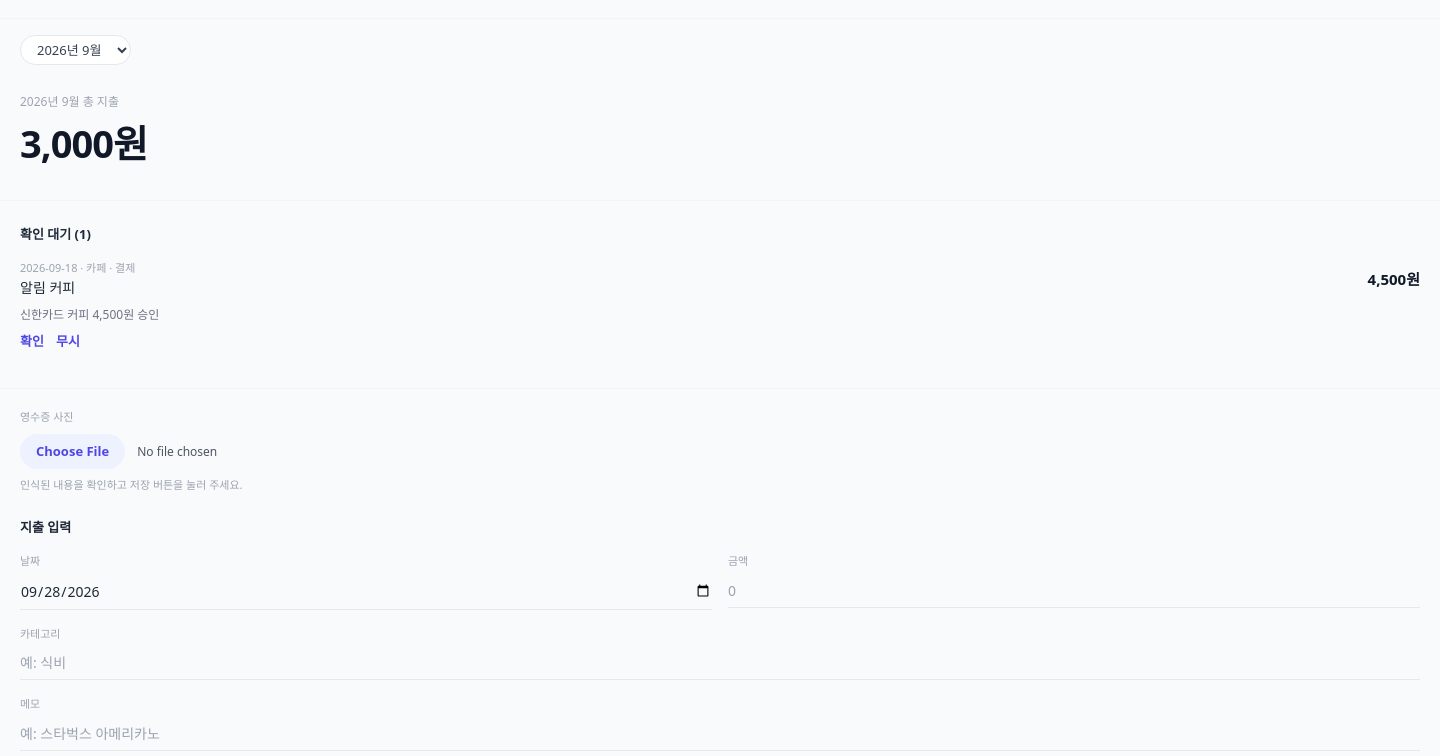
Test case: 대시보드 확인 대기 › 편집 시작 시 확인 대기 모드를 해제합니다
The width and height of the screenshot is (1440, 756).
Click the button "확인". click: click(32, 341)
box: [20,332,44,351]
(page scrolled)
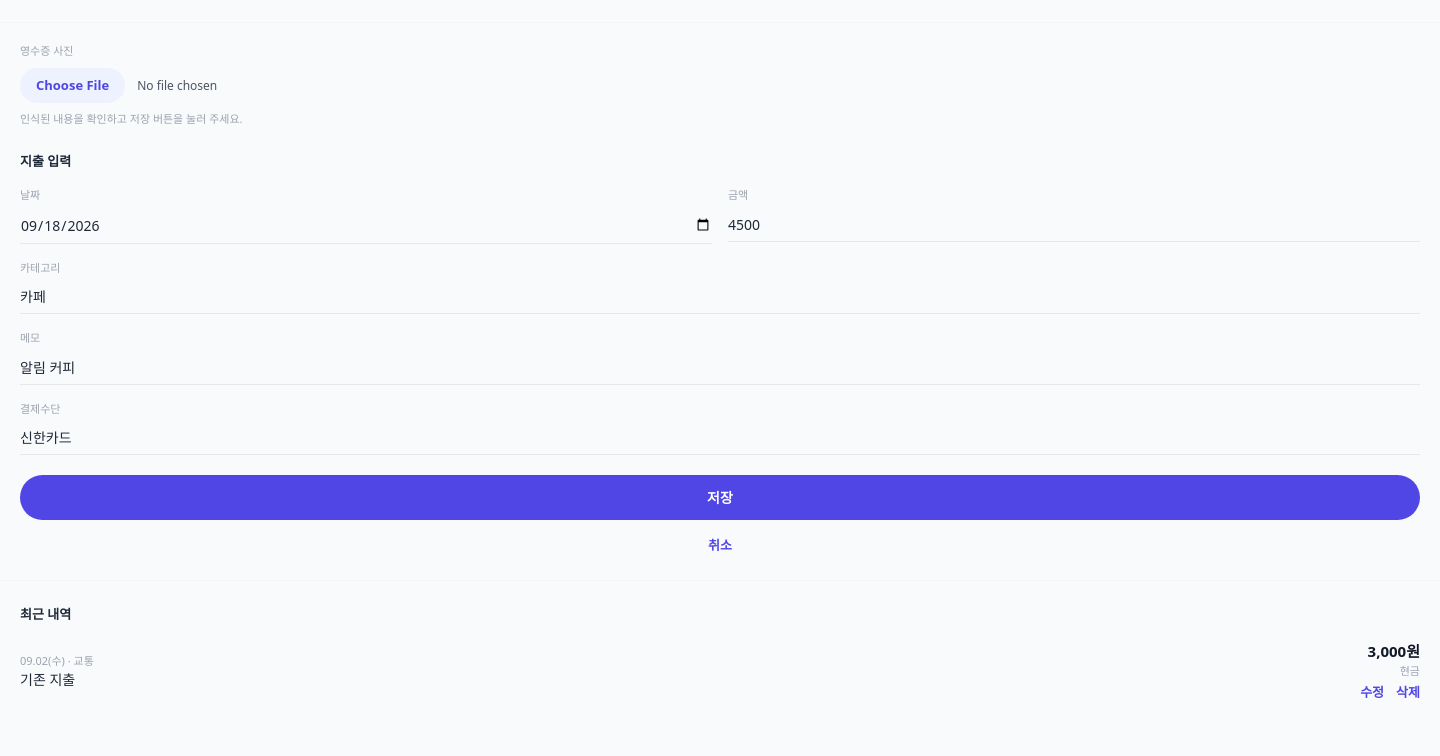
Click the button "수정". click: click(1372, 693)
box: [1360,683,1384,702]
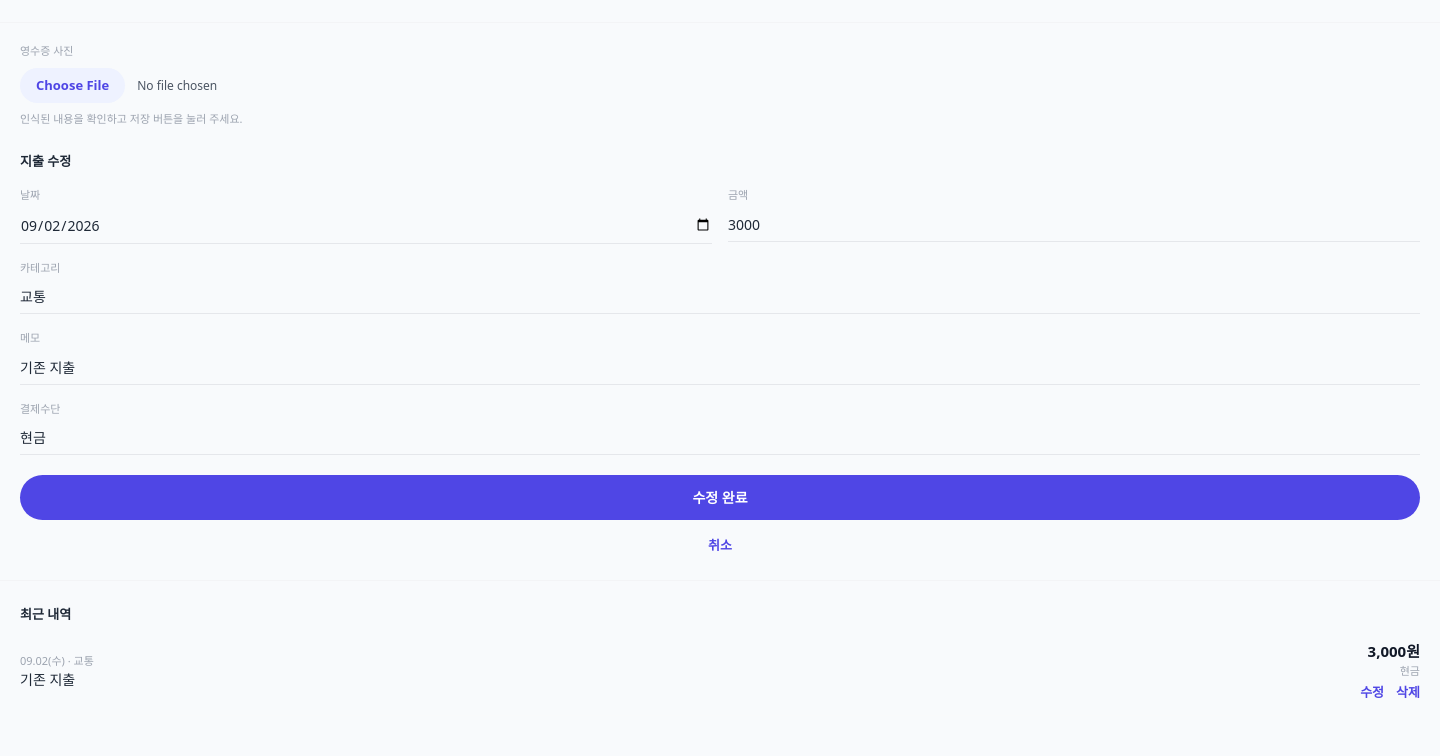
Result: the field labelled "메모" holds "기존 지출" at [20,350,1420,384]
Click the button "수정 완료". click: click(720, 498)
box: [20,475,1420,520]
(page scrolled)
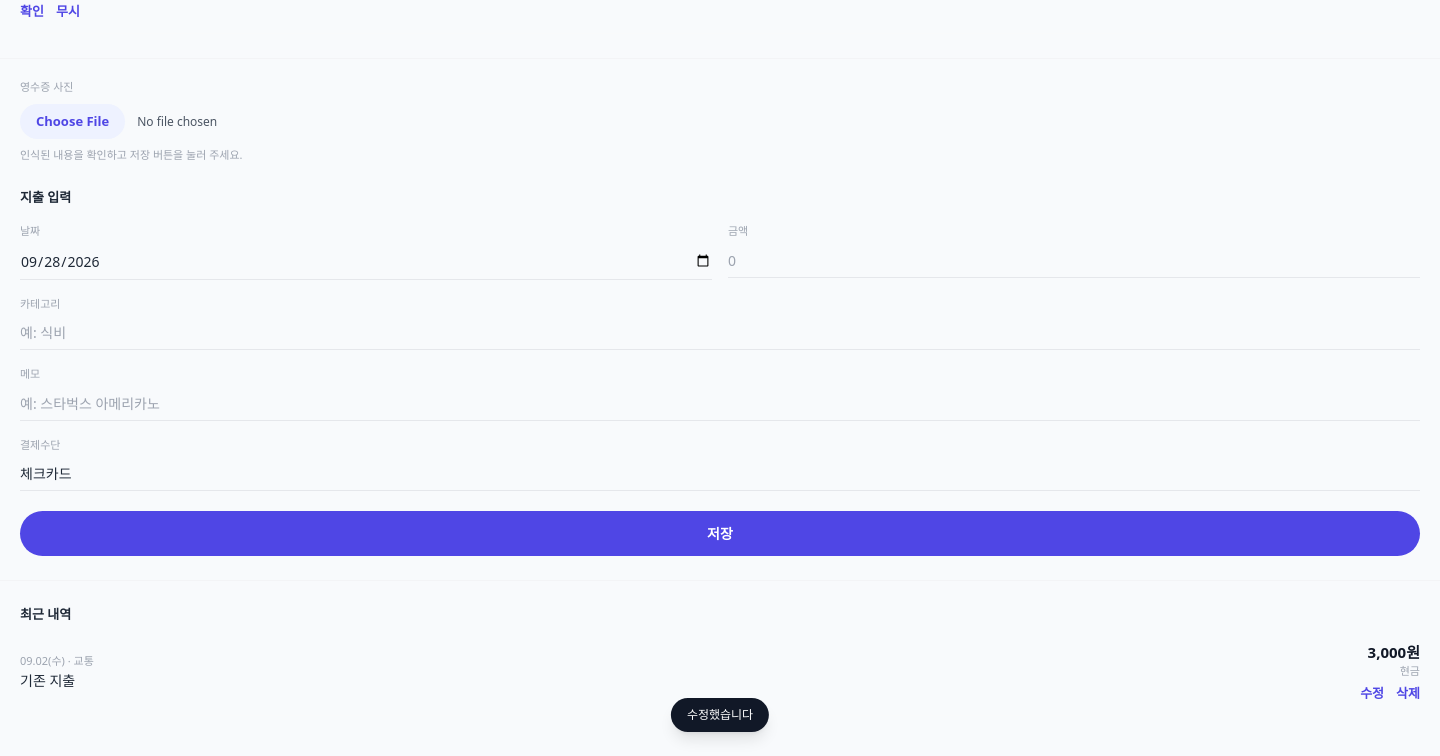
Result: the text "수정했습니다" is shown at [671,698,769,732]
